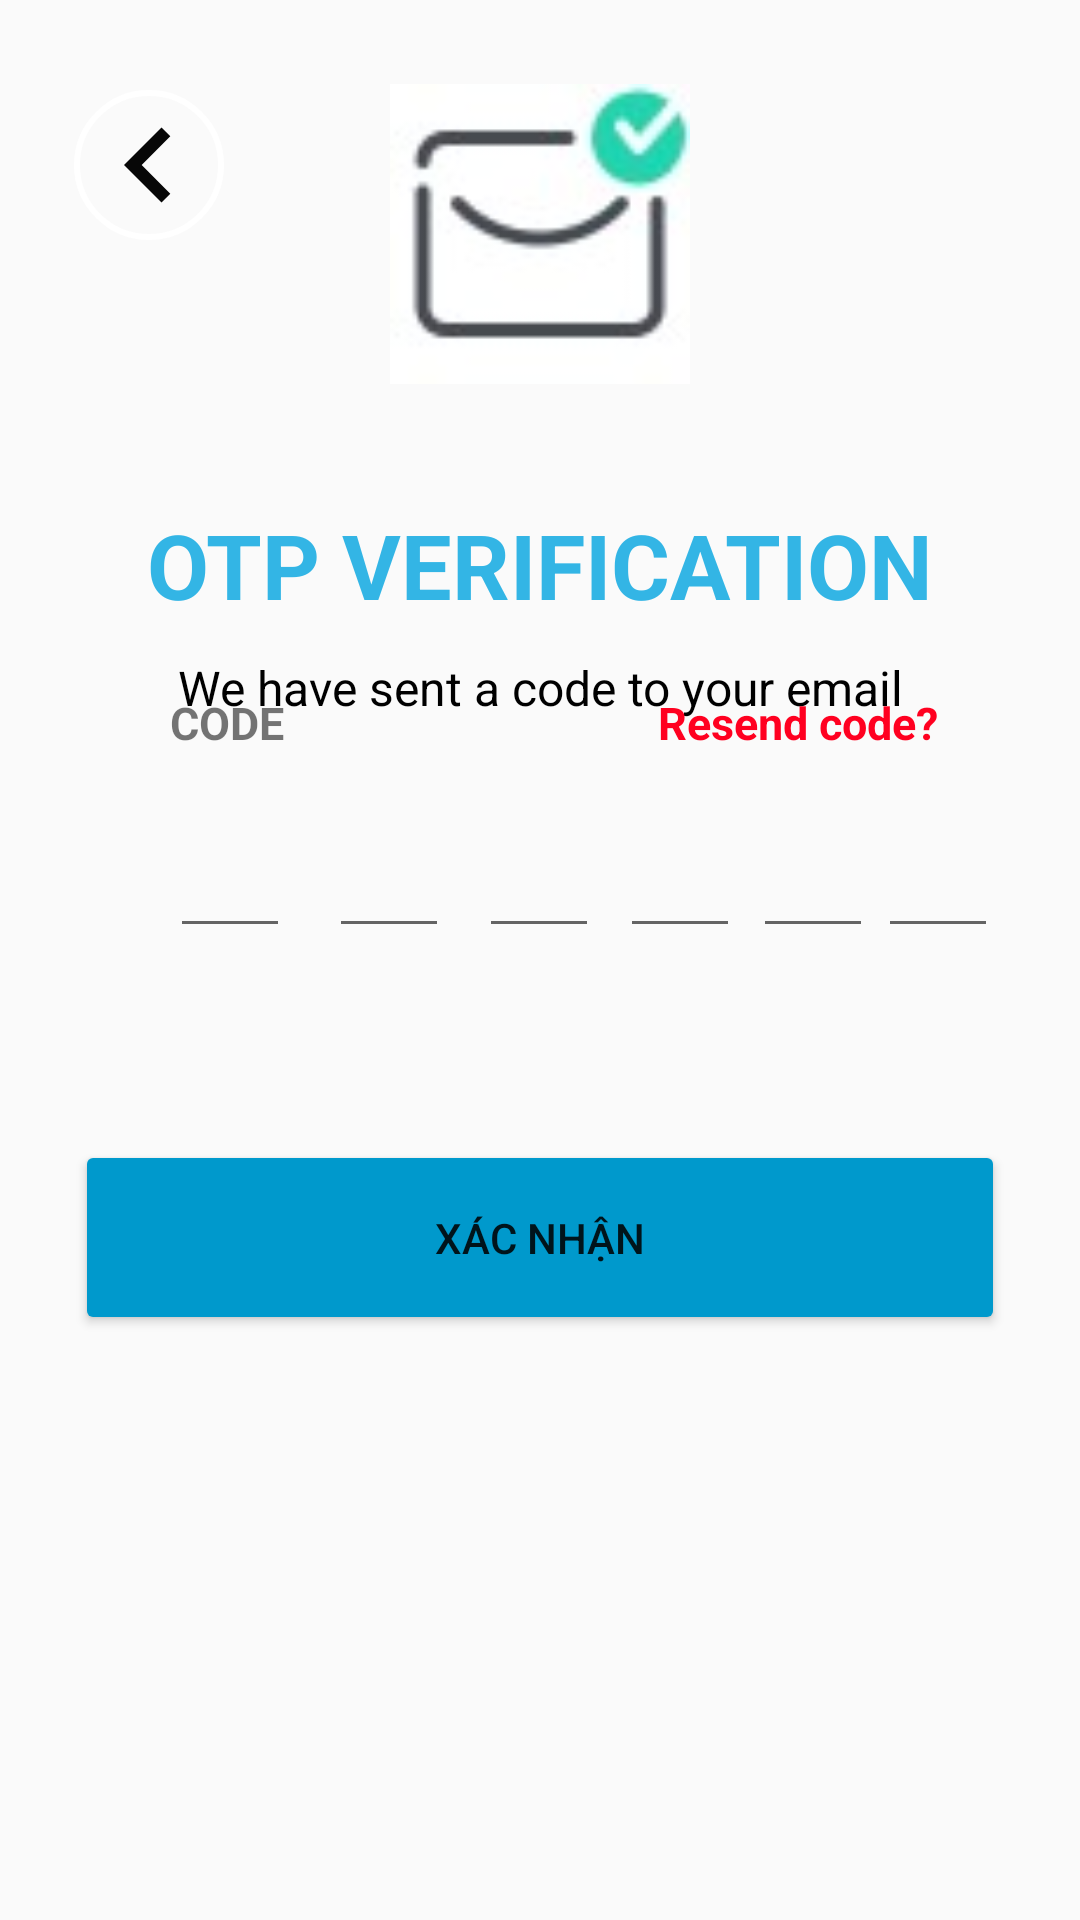

Screen size 1080px x 1920px. Icon name, then its center in pixels as [x,y]:
navigate before: [147,165]
